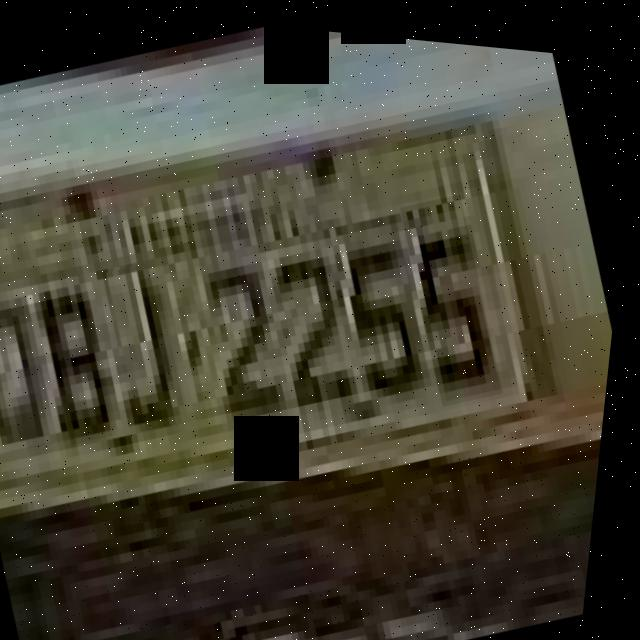5: (388, 180, 526, 401), (325, 201, 453, 395)
B: (31, 269, 137, 446)
J: (100, 255, 212, 431)
Q: (0, 292, 72, 456)
